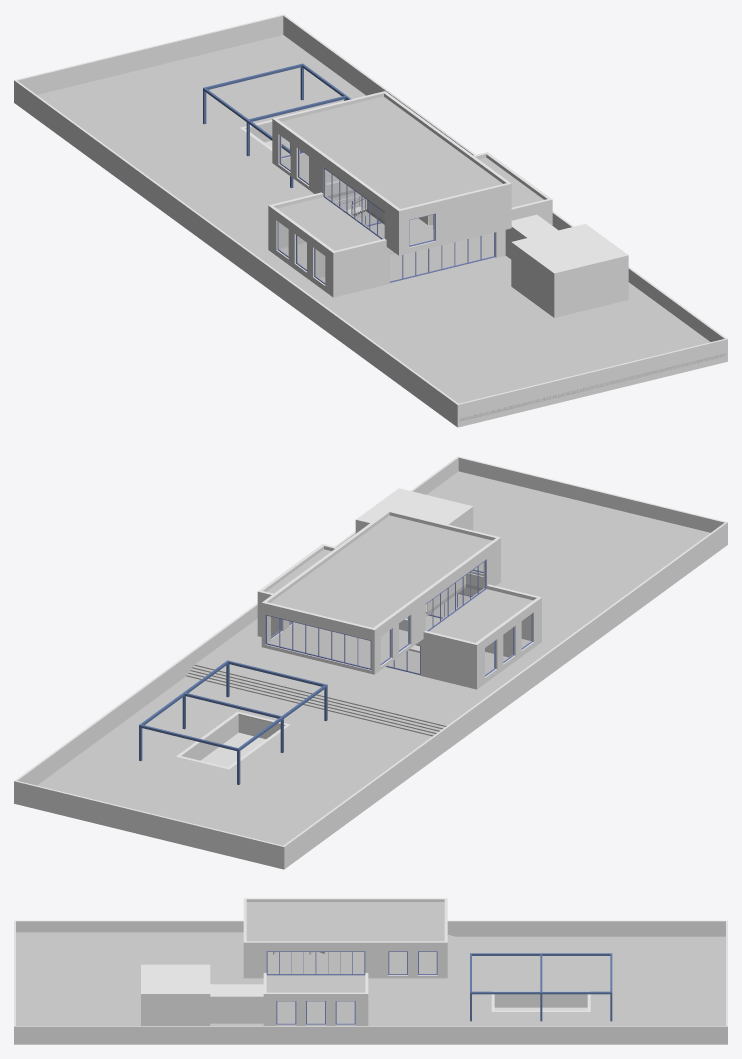
The model's file is house.glb.
3 renders of one model, top to bottom at view 1: azimuth 30°, elevation 25°; view 2: azimuth 150°, elevation 25°; view 3: azimuth 270°, elevation 25°, orthographic. The views are drawn at different scales.
Visible parts, largest first — view 1: floor, walls, glassframes, framepool; view 2: floor, walls, framepool, glassframes; view 3: floor, walls, framepool, glassframes.
Boxes of the visible parts, bbox=[...] form: floor: bbox=[37, 35, 725, 421]; walls: bbox=[14, 14, 727, 427]; glassframes: bbox=[277, 135, 495, 284]; framepool: bbox=[203, 63, 351, 188]; floor: bbox=[37, 471, 710, 845]; walls: bbox=[14, 456, 727, 869]; framepool: bbox=[139, 660, 327, 784]; glassframes: bbox=[265, 559, 532, 676]; floor: bbox=[16, 902, 725, 1025]; walls: bbox=[14, 898, 727, 1044]; framepool: bbox=[470, 953, 612, 1021]; glassframes: bbox=[266, 951, 437, 1024].
Bounding box in the file's own units: 25.38 × 9.9 × 72.21.
